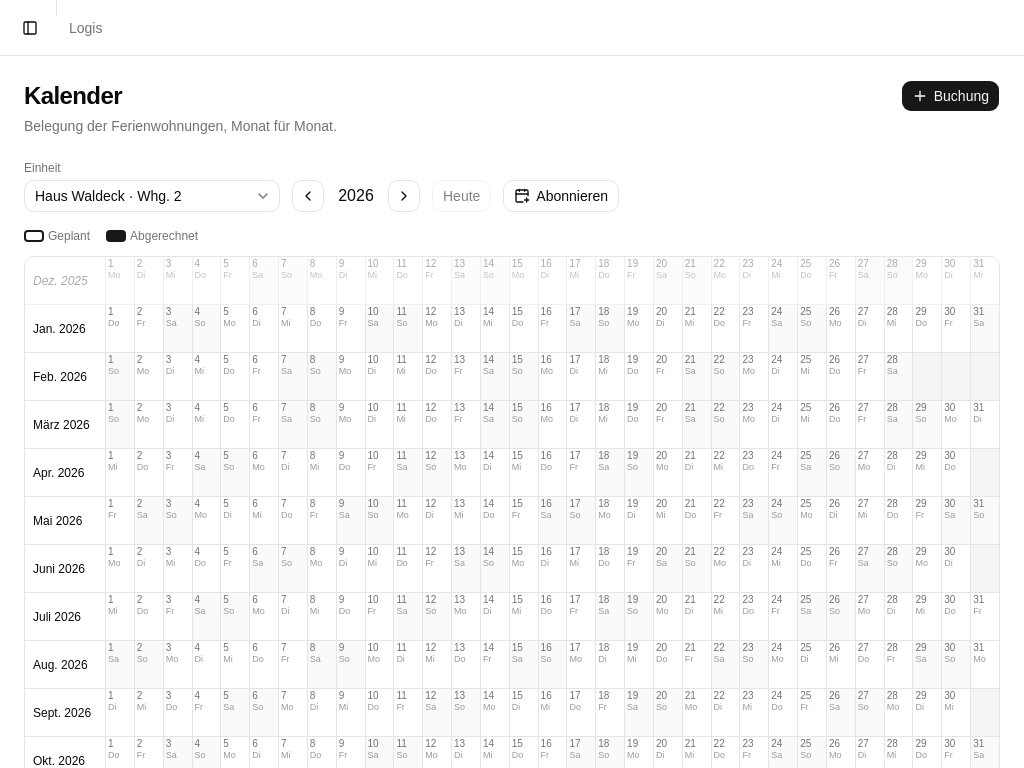
it: Calendar by year › offers a unit-only user only their unit
Click the dropdown named "Einheit": x=152, y=196 [24,180,280,212]
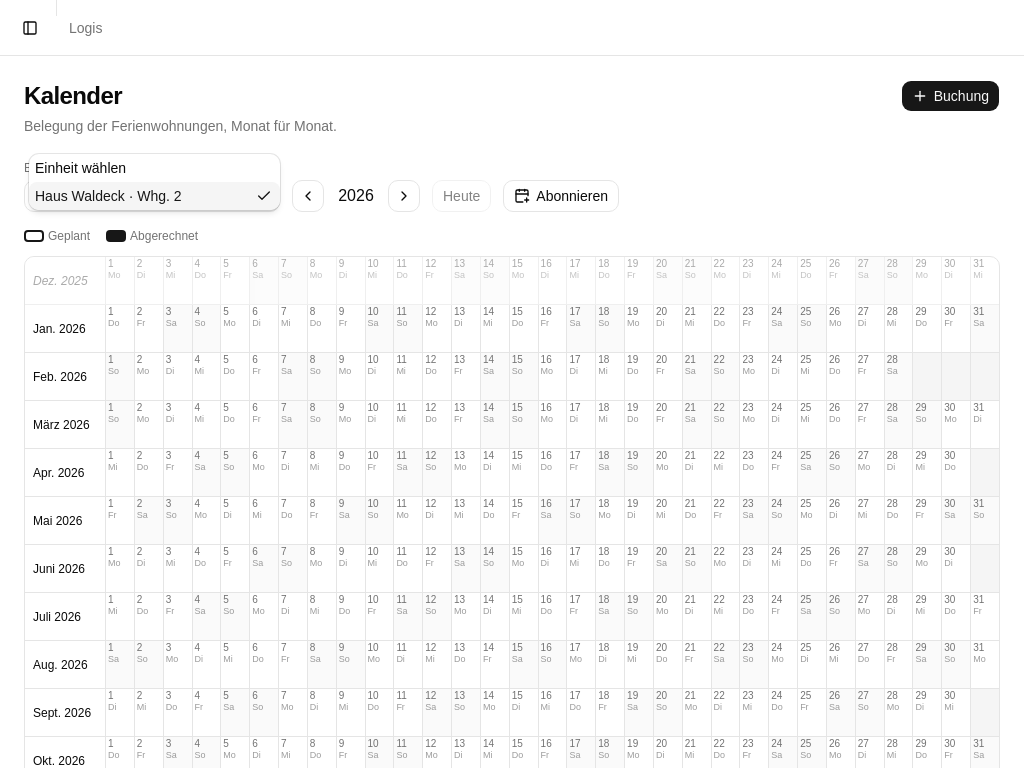
Expected: the options read "Einheit wählen", "Haus Waldeck · Whg. 2", in this order, [35,160,126,176]; [29,182,280,210]
